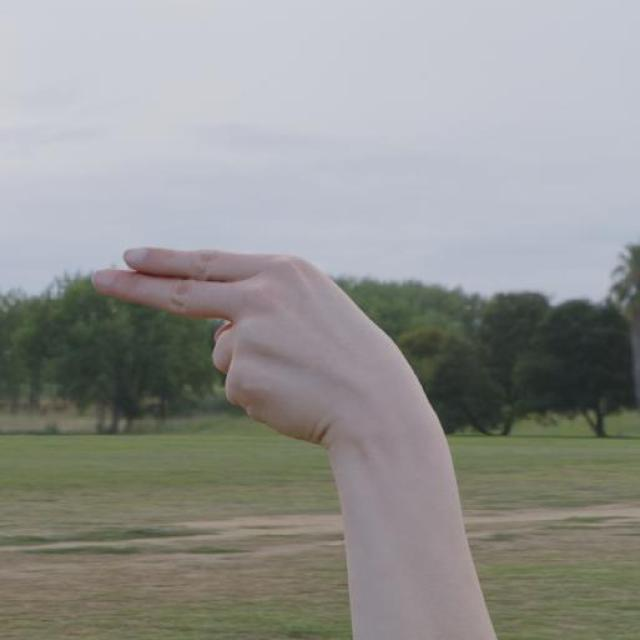H: (82, 236, 441, 484)
